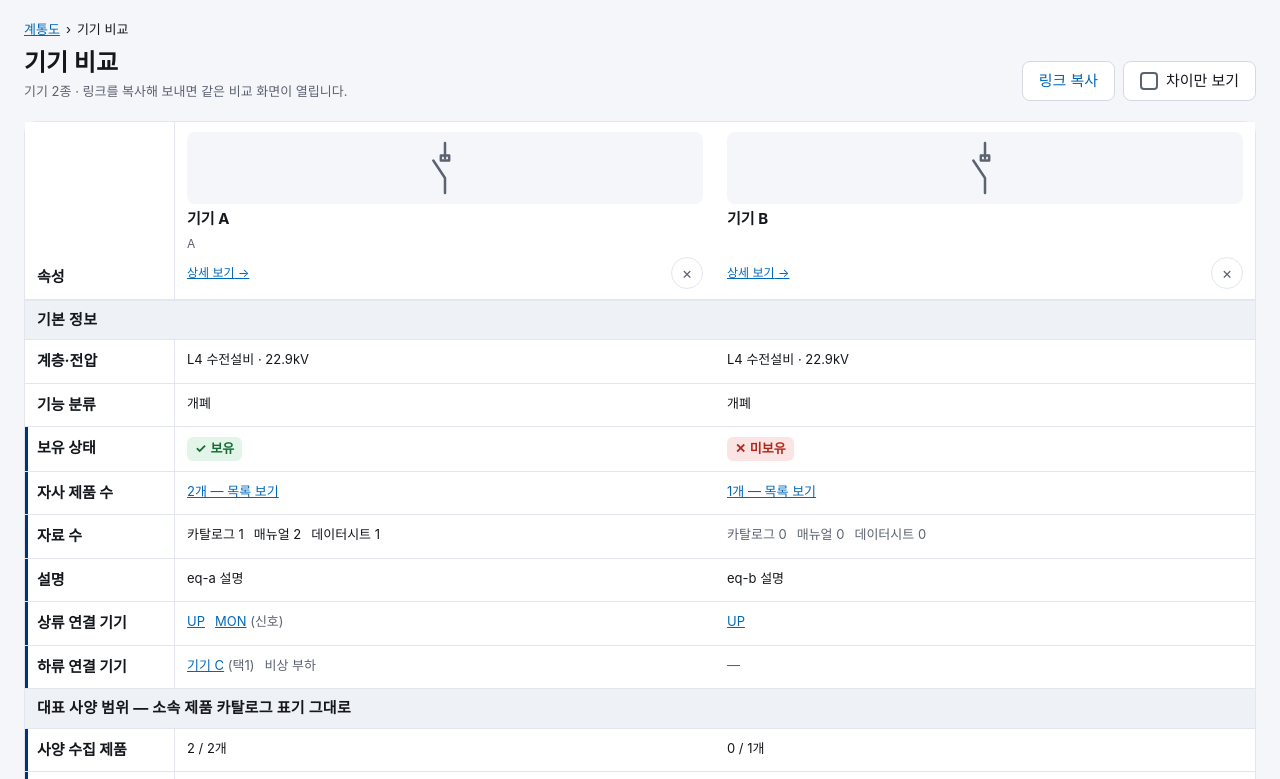
Test: C6 링크 복사 + 차이만 보기 주소 저장 (UX 토론) › clipboard 자체가 없어도 입력창으로 대체
Step 1. Click the button with test id "compare-copy-link" → (1068, 81), box [1022,61,1115,101]
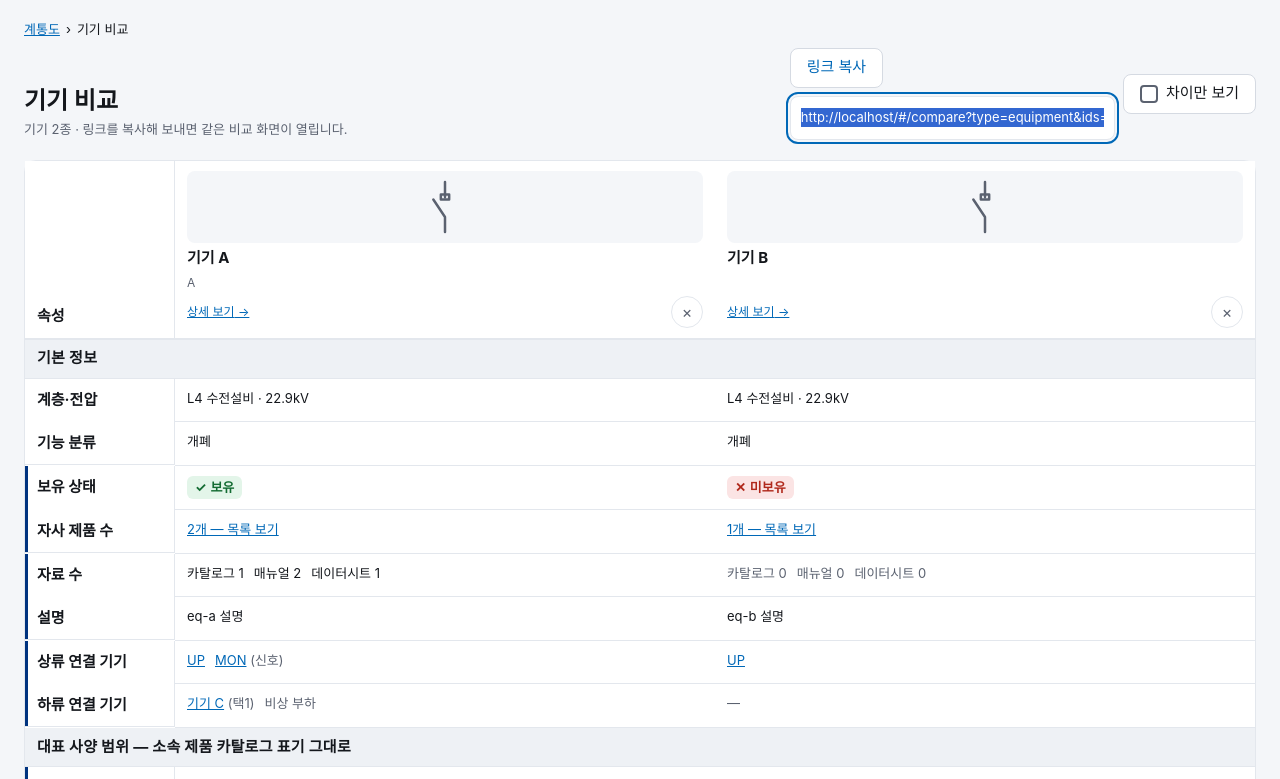
Expected: the field with test id "compare-copy-fallback" is shown, [790,96,1115,140]
